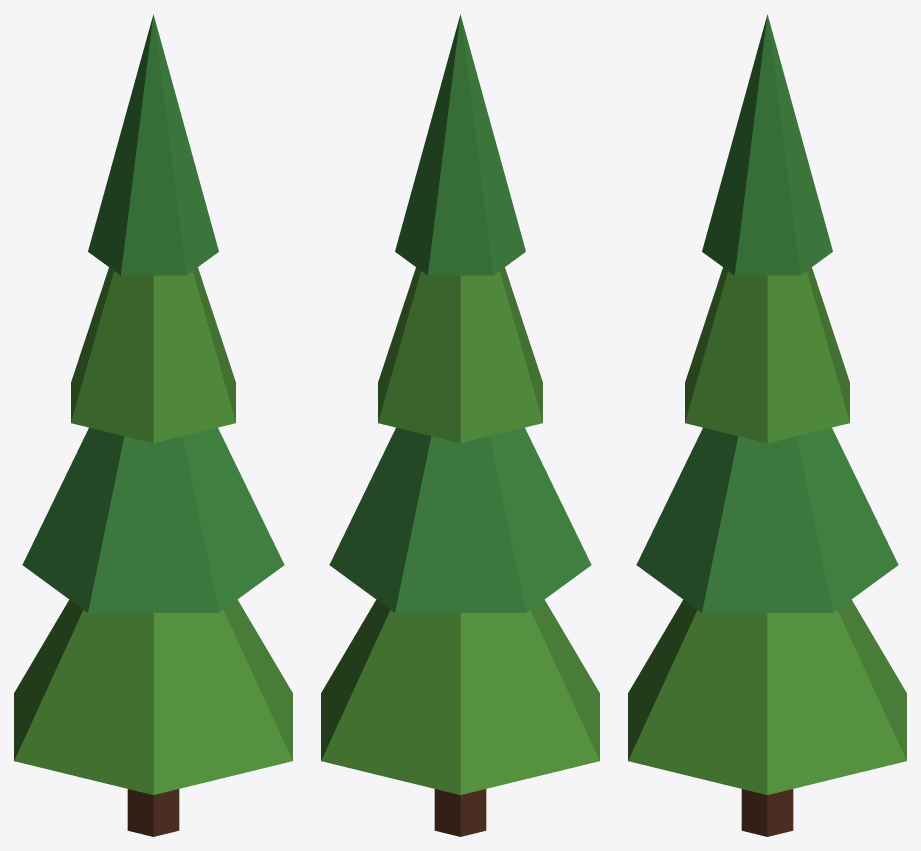
File: Tree5.fbx
3 renders of one model, left to right at view 1: azimuth 30°, elevation 25°; view 2: azimuth 150°, elevation 25°; view 3: azimuth 270°, elevation 25°, orthographic.
Parts seen in each view (by area): view 1: Tree5; view 2: Tree5; view 3: Tree5.
Boxes of the visible parts, box(x1,y1,x2,y2) form: Tree5: box(14, 14, 292, 836); Tree5: box(321, 14, 599, 836); Tree5: box(628, 14, 906, 836).
Size of the model in its own units: 0.54 by 1.5 by 0.4677.
